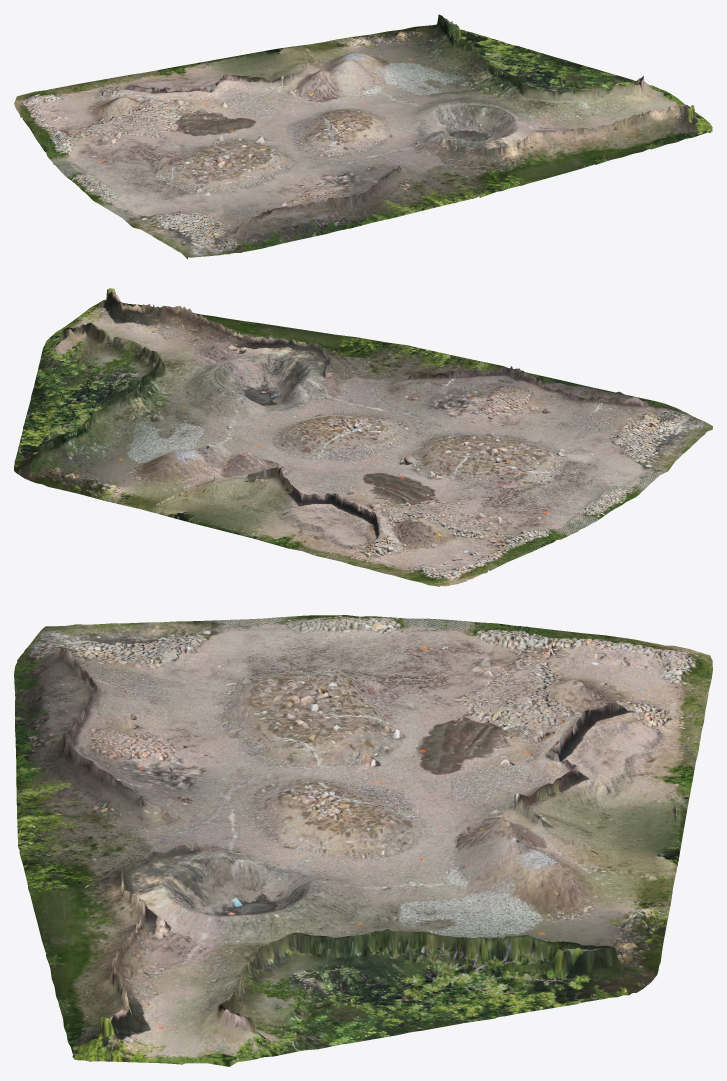
The model's file is erc2025-col.fbx.
The picture shows the model from 3 angles, top to bottom: view 1: azimuth 30°, elevation 25°; view 2: azimuth 150°, elevation 25°; view 3: azimuth 270°, elevation 25°; orthographic projection. The views are drawn at different scales.
Parts seen in each view (by area): view 1: collision; view 2: collision; view 3: collision.
Part boxes in pixels (box(x1,y1,x2,y2)): collision: box(14, 14, 712, 259); collision: box(14, 288, 712, 586); collision: box(14, 615, 712, 1066).
Bounding box in the file's own units: 4312 × 223 × 2952.
1 material, 1 textured.
